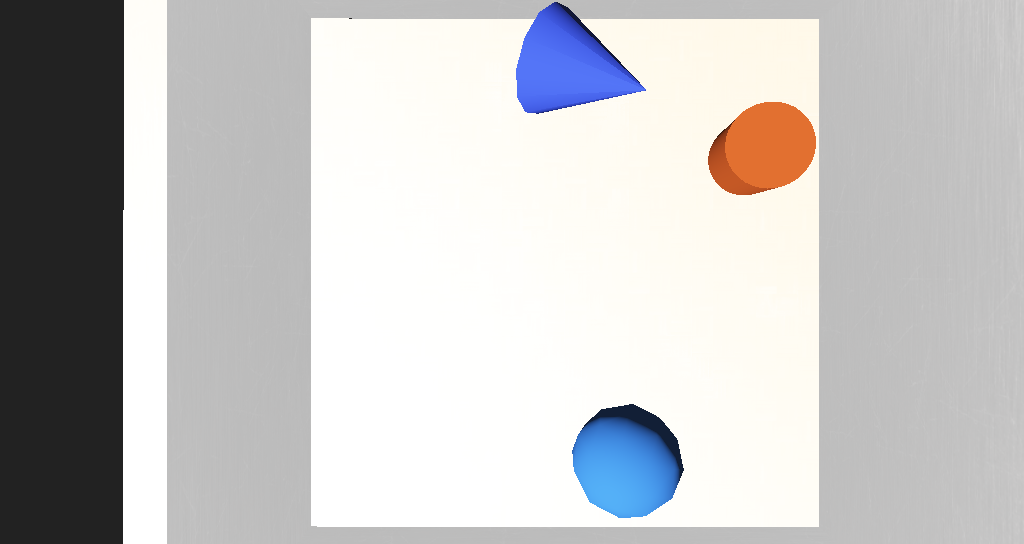cone: (579, 198, 647, 241)
cylinder: (465, 153, 573, 220)
sphere: (505, 320, 573, 367)
